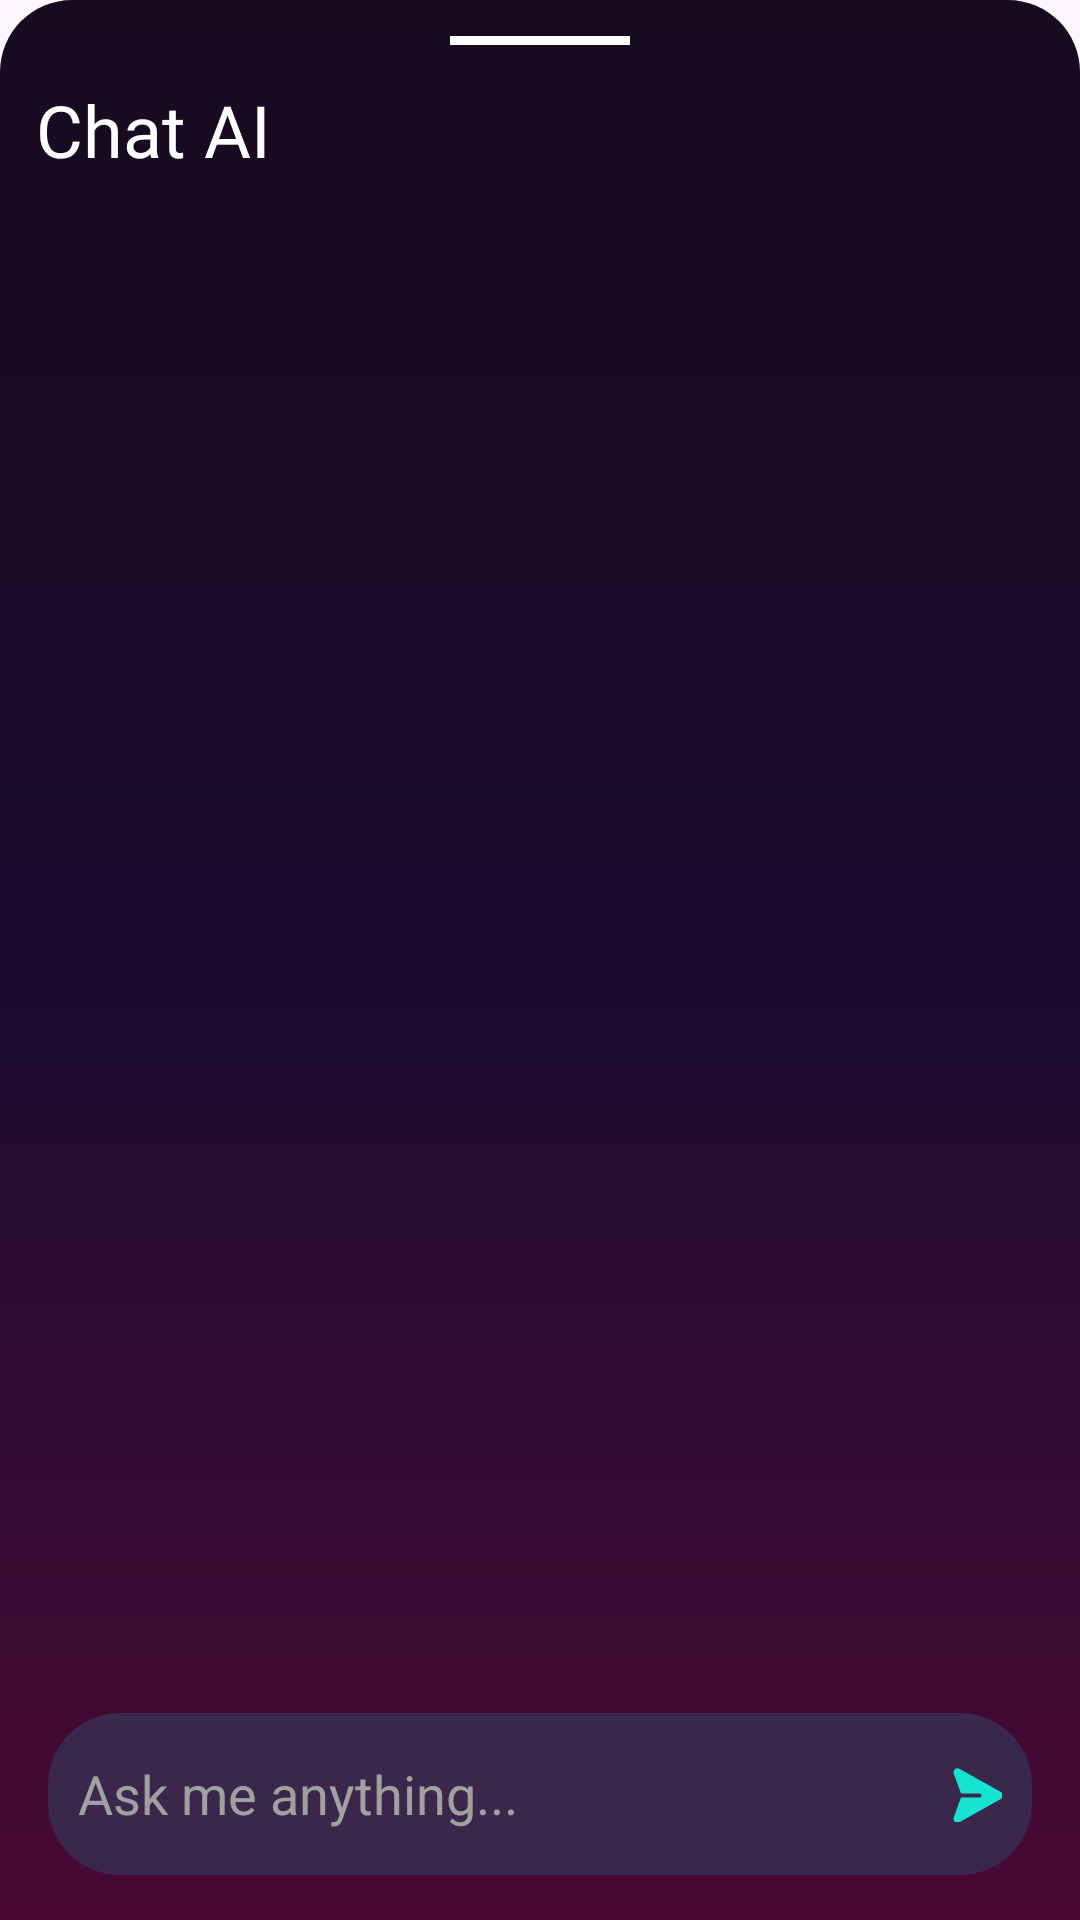

Named icons in this screenshot (1080 × 1920) and their bounding boxes, (x1, y1, x2, y2):
iconsend: (953, 1768, 1002, 1822)
